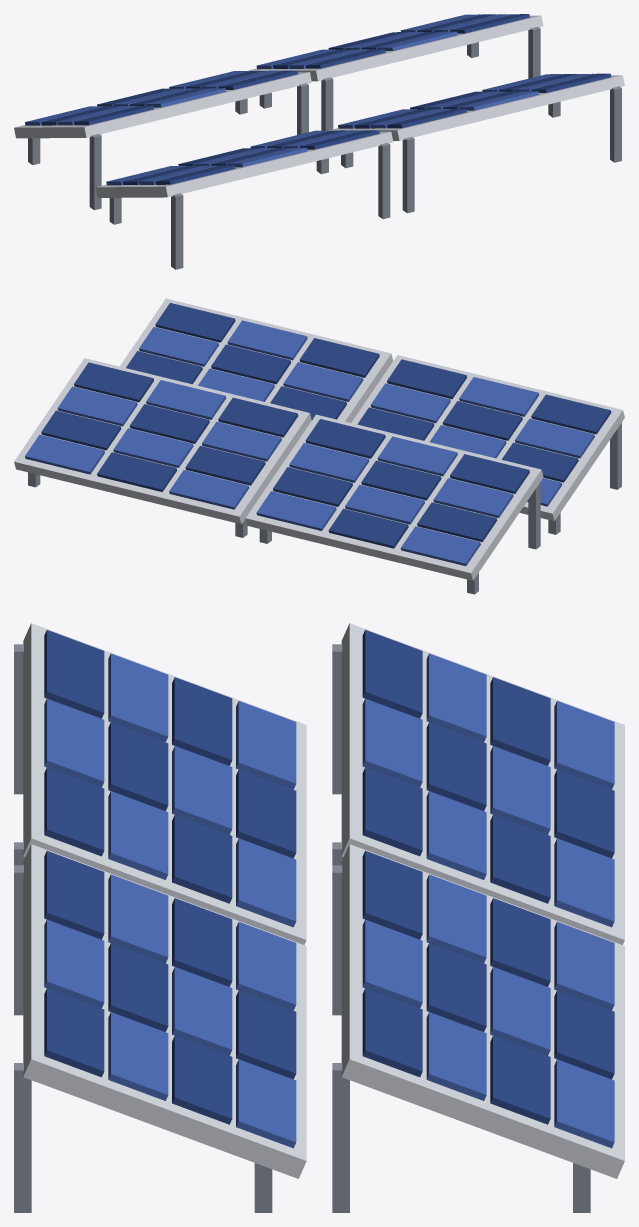
Rendered from solar-panel-landscape-group.glb.
The picture shows the model from 3 angles, top to bottom: view 1: azimuth 30°, elevation 25°; view 2: azimuth 150°, elevation 25°; view 3: azimuth 270°, elevation 25°; orthographic projection. The views are drawn at different scales.
Parts seen in each view (by area): view 1: solar-panel-landscape-group; view 2: solar-panel-landscape-group; view 3: solar-panel-landscape-group.
Part boxes in pixels (x1=…): solar-panel-landscape-group: x1=14, y1=14, x2=624, y2=269; solar-panel-landscape-group: x1=14, y1=298, x2=624, y2=594; solar-panel-landscape-group: x1=14, y1=623, x2=624, y2=1212.
Size of the model in its own units: 1.52 by 0.26 by 0.9.
Materials: 1 (1 with a texture image).
